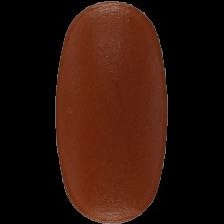0469-2601: (0, 0, 224, 224)
